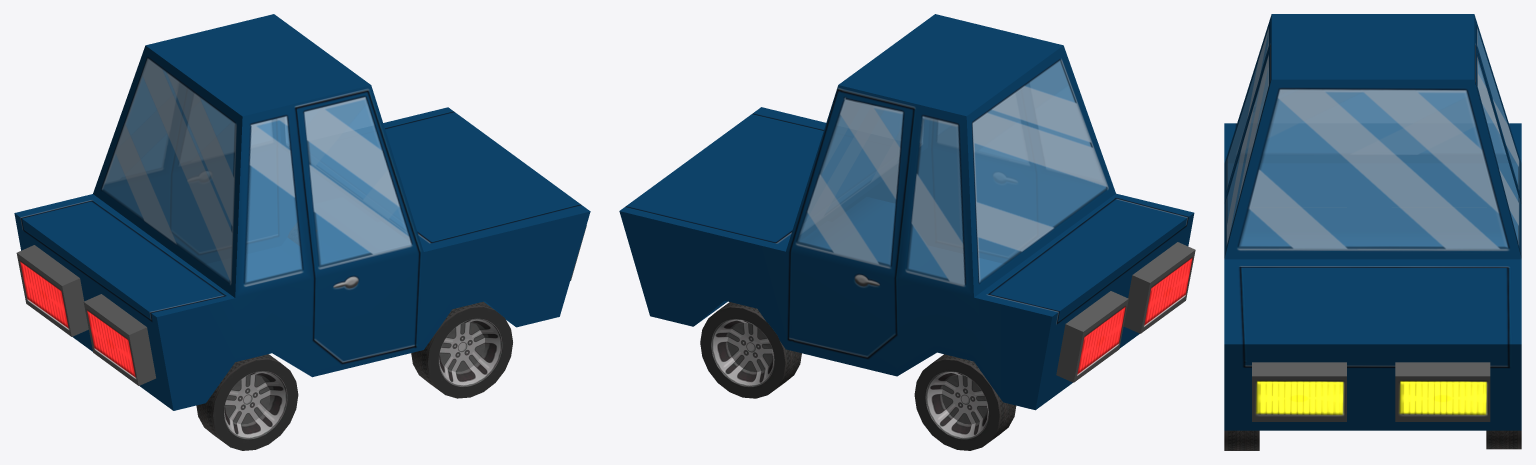
The model's file is coche2.glb.
The picture shows the model from 3 angles, left to right: view 1: azimuth 30°, elevation 25°; view 2: azimuth 150°, elevation 25°; view 3: azimuth 270°, elevation 25°; orthographic projection. The views are drawn at different scales.
Visible parts, largest first — view 1: coche; view 2: coche; view 3: coche.
Part boxes in pixels (left/top/right/bottom): coche: left=14, top=14, right=590, bottom=450; coche: left=619, top=14, right=1195, bottom=450; coche: left=1224, top=14, right=1521, bottom=450.
Size of the model in its own units: 0.156 by 0.1024 by 0.0841.
Materials: 1 (1 with a texture image).
